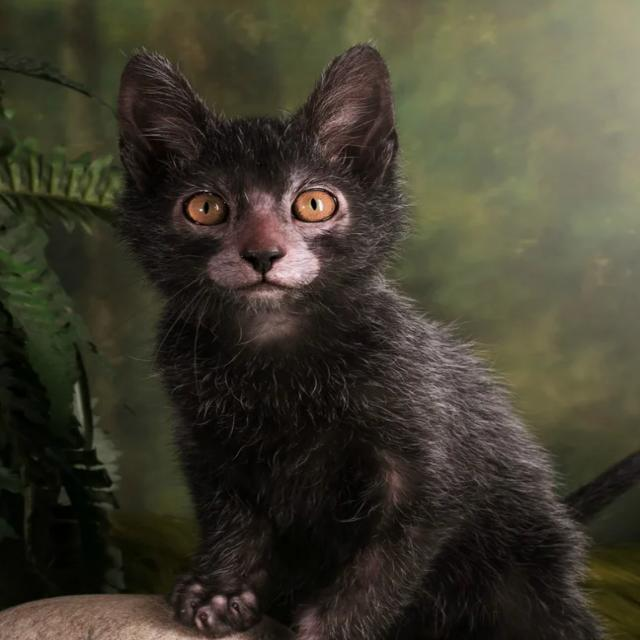Lykoi: (108, 35, 604, 640)
